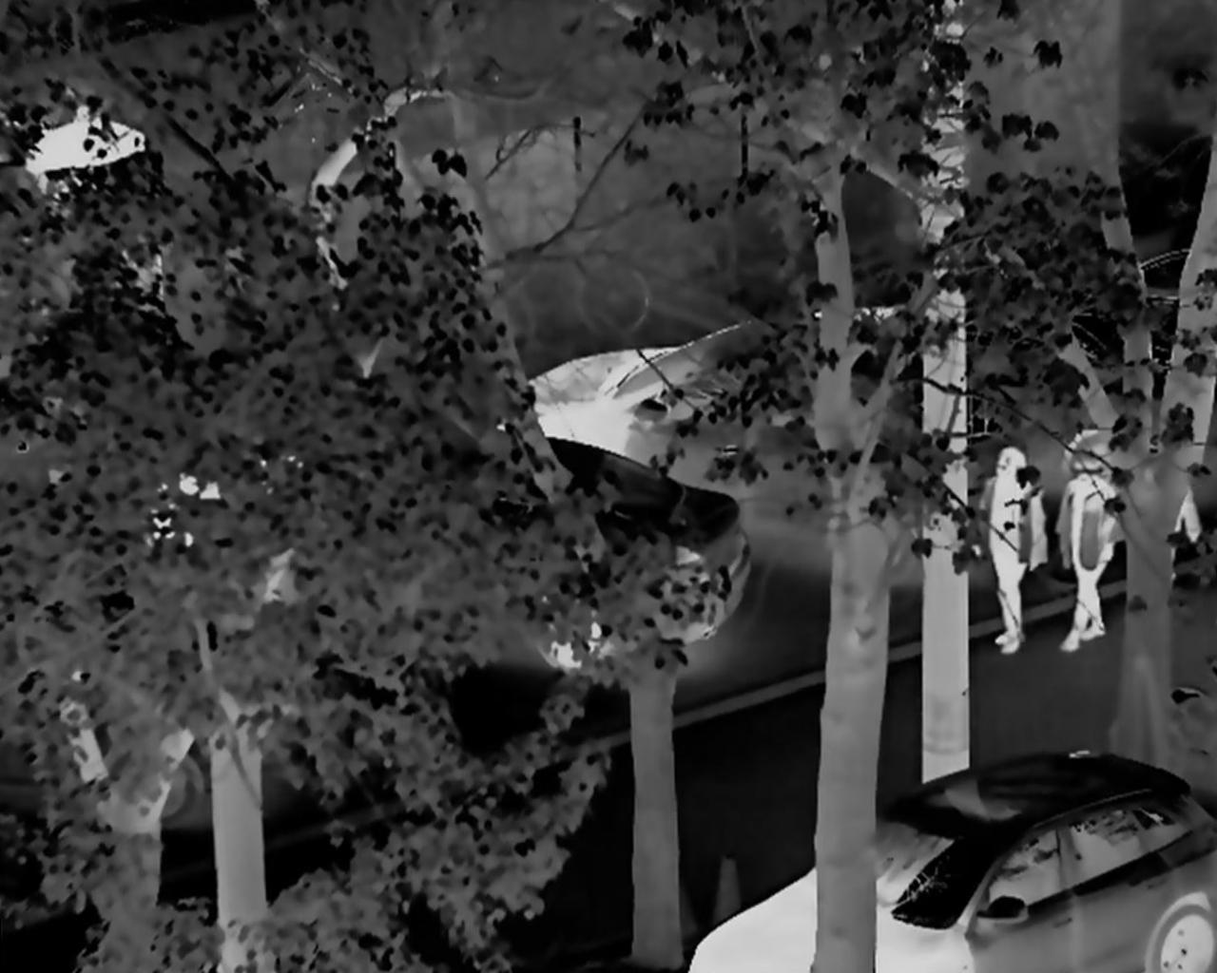person: (1053, 436, 1125, 655), (977, 444, 1044, 663)
